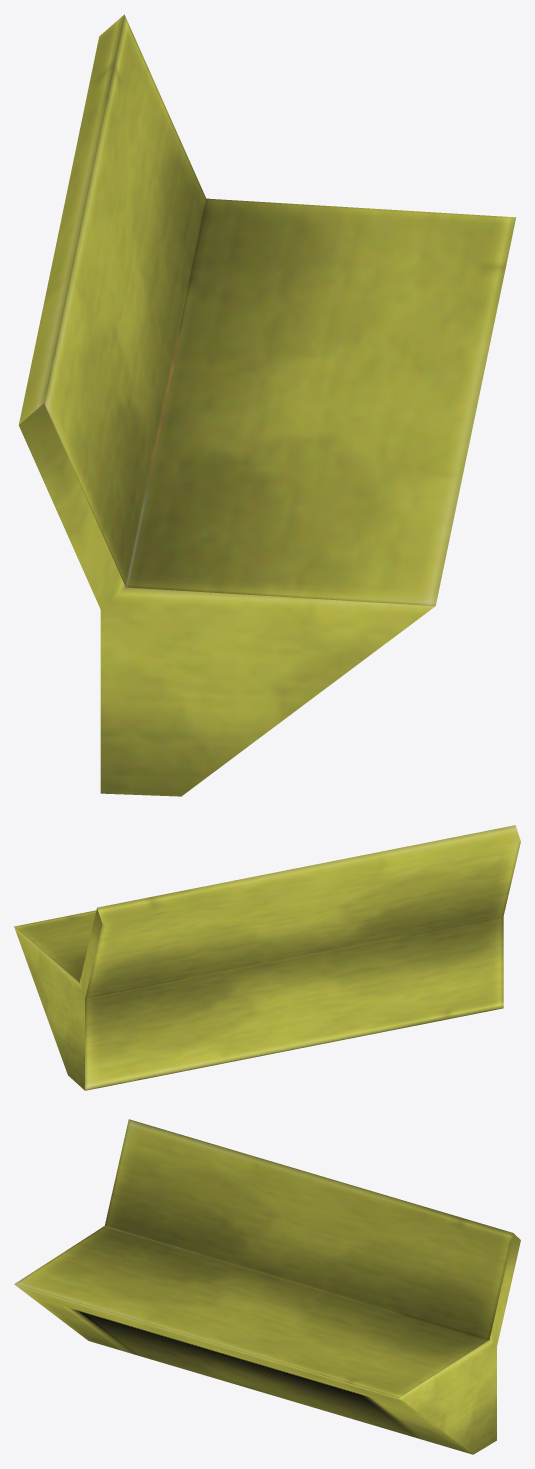
File: bench03.glb
The picture shows the model from 3 angles, top to bottom: view 1: azimuth 30°, elevation 25°; view 2: azimuth 150°, elevation 25°; view 3: azimuth 270°, elevation 25°; orthographic projection. The views are drawn at different scales.
Visible parts, largest first — view 1: bench03; view 2: bench03; view 3: bench03.
Part boxes in pixels (box(x1,y1,x2,y2)): bench03: box(18, 14, 516, 796); bench03: box(14, 825, 520, 1090); bench03: box(14, 1119, 520, 1454).
Size of the model in its own units: 273 by 134 by 312.
Materials: 1 (1 with a texture image).
